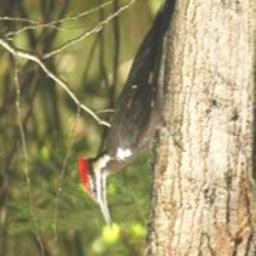Woodpecker: (77, 0, 191, 233)
